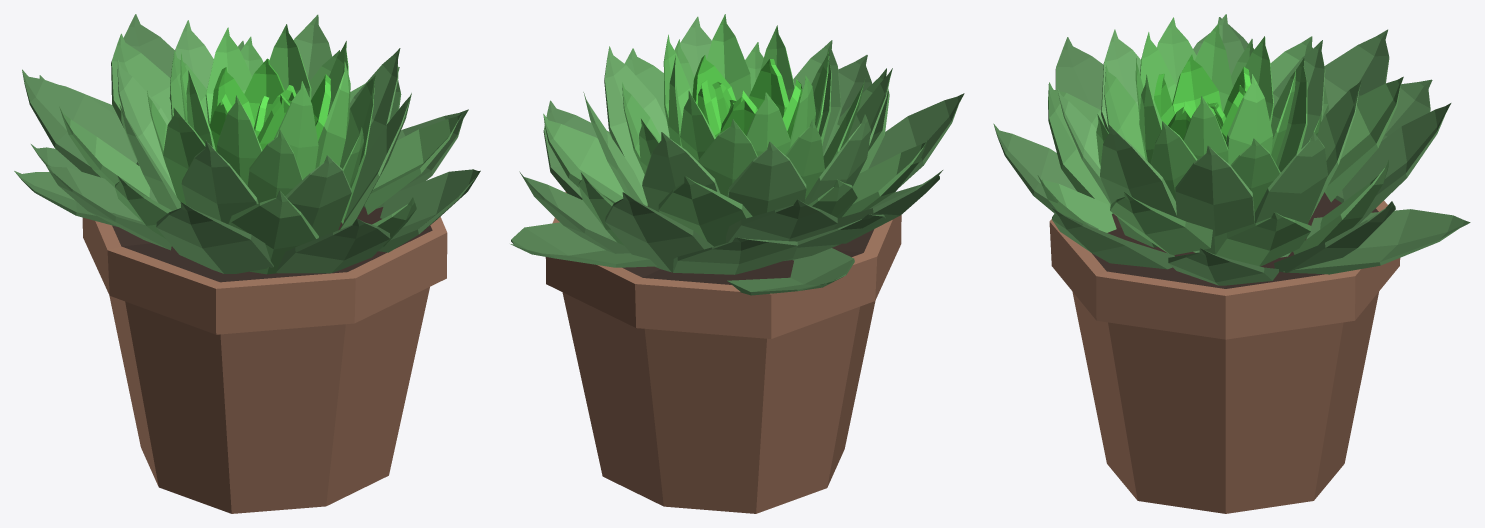
The model's file is pot.glb.
3 renders of one model, left to right at view 1: azimuth 30°, elevation 25°; view 2: azimuth 150°, elevation 25°; view 3: azimuth 270°, elevation 25°, orthographic. The views are drawn at different scales.
Parts seen in each view (by area): view 1: pCube48_Mesh.001; view 2: pCube48_Mesh.001; view 3: pCube48_Mesh.001.
Part boxes in pixels (x1,y1,x2,y2): pCube48_Mesh.001: (14,14,480,513); pCube48_Mesh.001: (510,14,964,513); pCube48_Mesh.001: (993,14,1470,513).
Size of the model in its own units: 0.9451 by 0.9202 by 0.9755.
